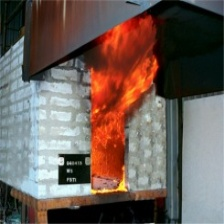fire: (80, 16, 159, 182)
